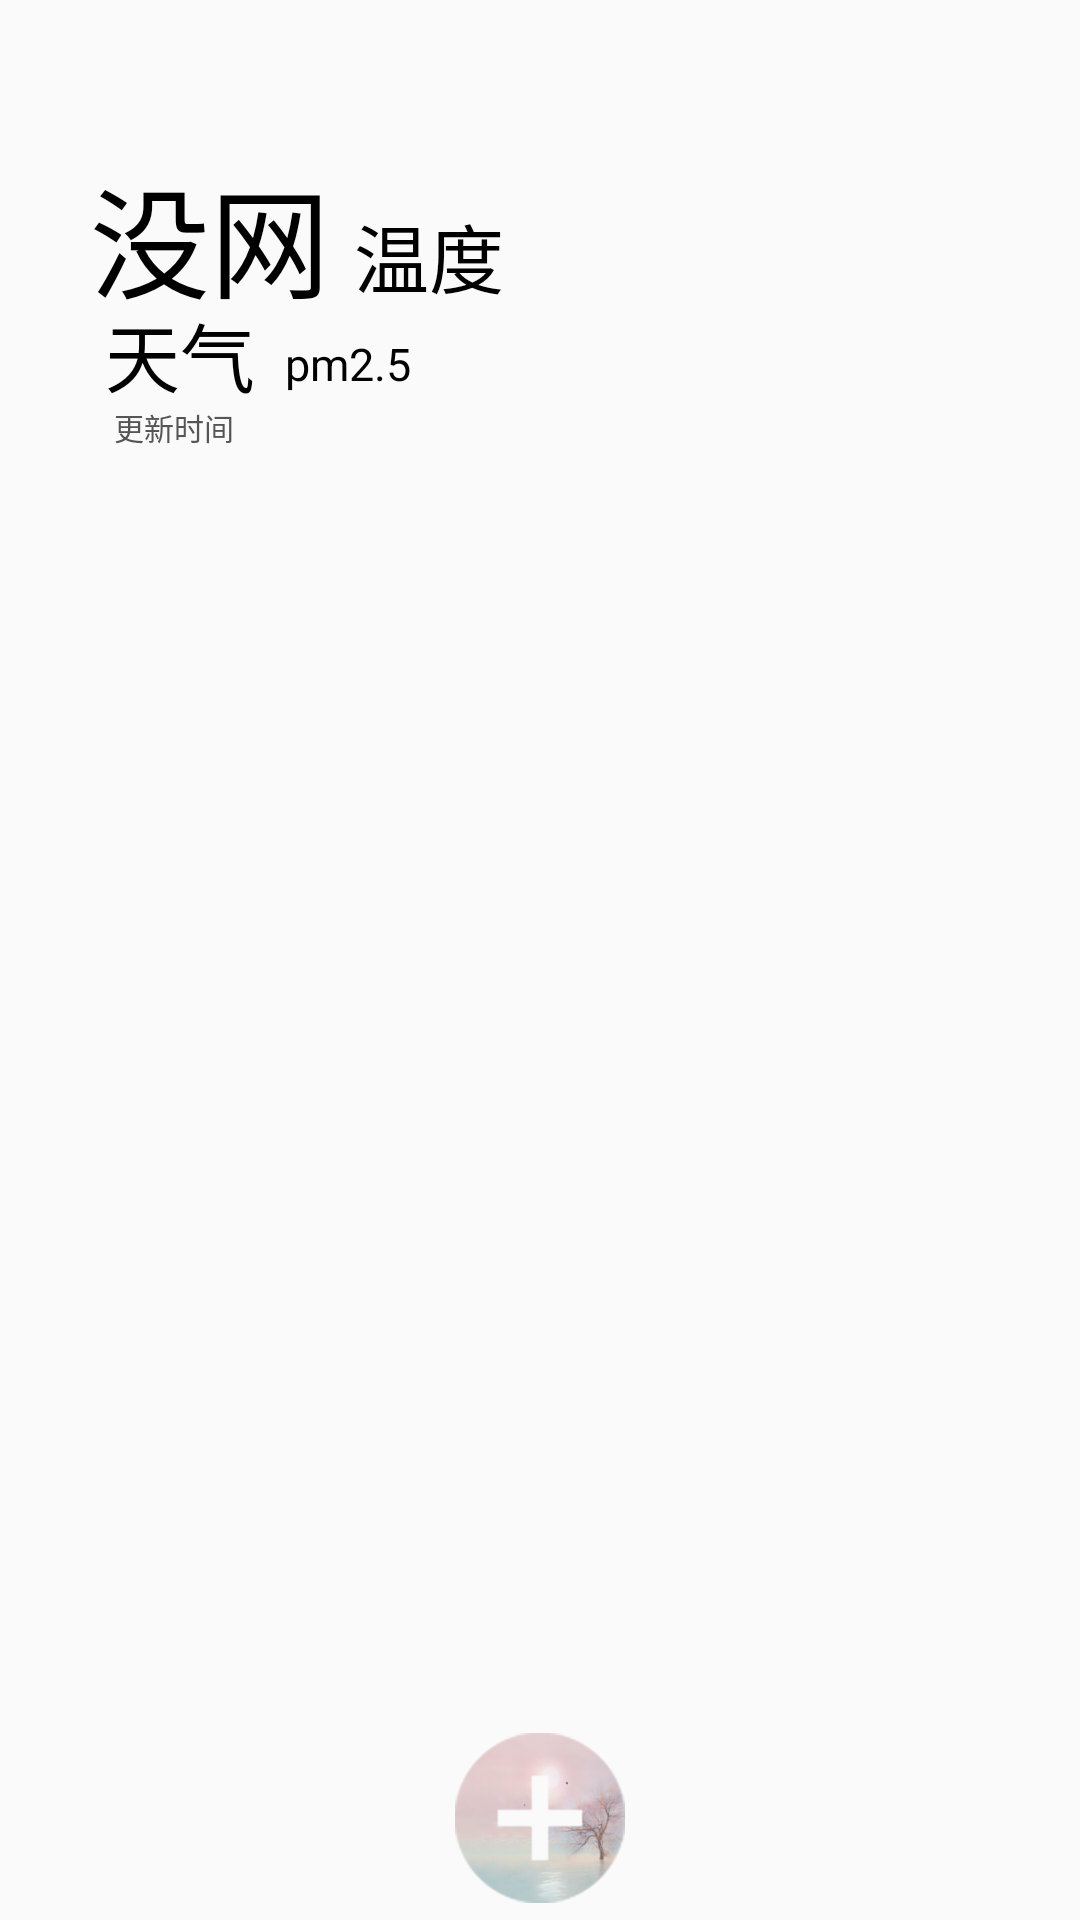

Icon click points for this 1080 x 1920 phone screenshot, format [x,y]:
add circle: [540,1818]
